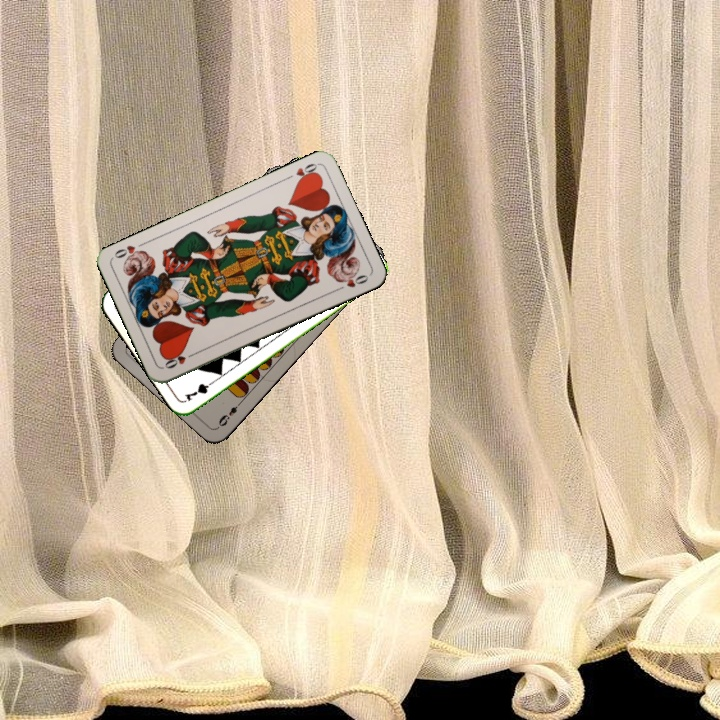E9: (214, 397, 245, 429)
G7: (181, 376, 219, 404)
HO: (282, 159, 321, 185), (160, 348, 199, 371)
